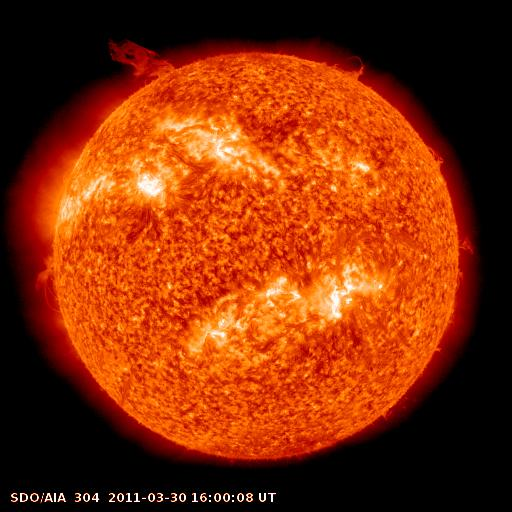prominence: (97, 32, 179, 88), (28, 248, 64, 322), (435, 231, 482, 284), (323, 48, 371, 89), (419, 137, 450, 173)
